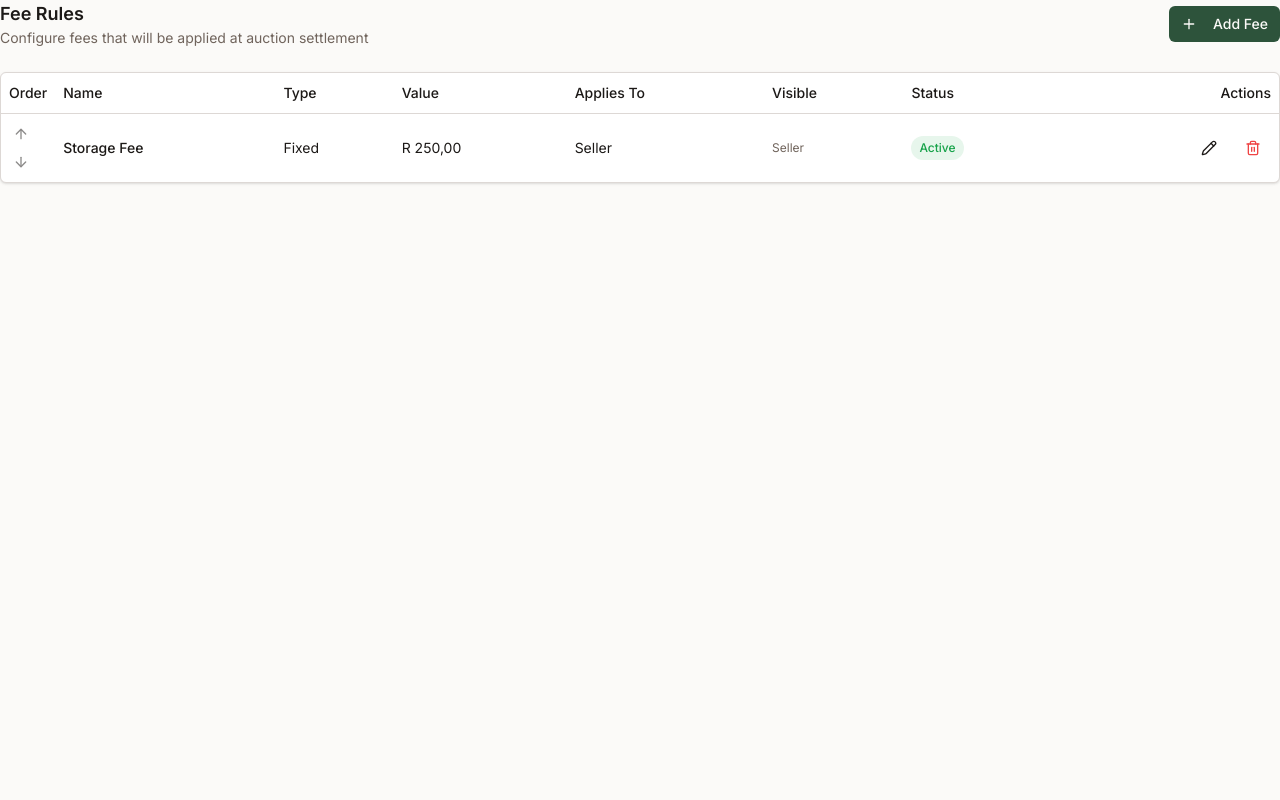
Scenario: FeeManager › edits a fixed fee without a description
Click the button named "edit fee storage fee" at [1209, 148], box [1191,132,1227,164]
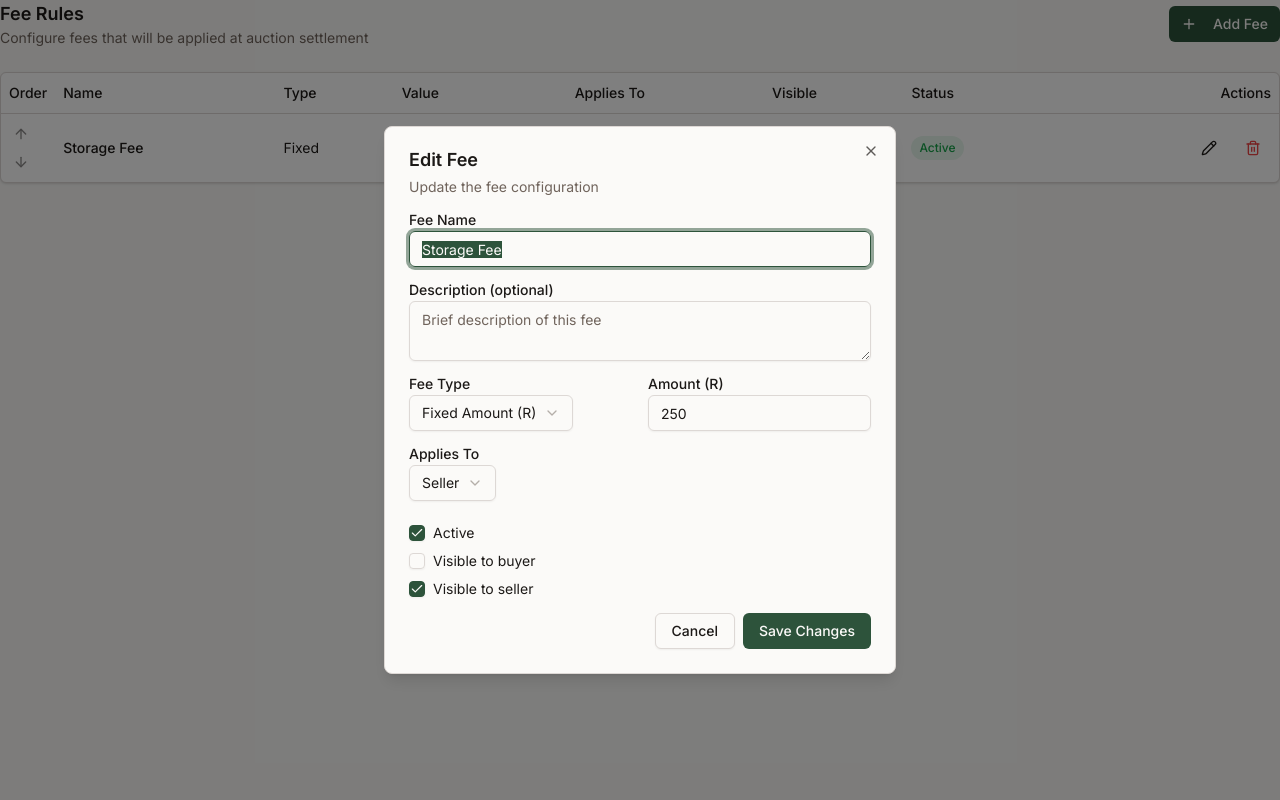
expect the field showing "Storage Fee" is shown: met, box [409,231,871,267]
expect the number field holds "250": met, box [648,395,871,431]
expect the text "Amount (R)" is shown: met, box [648,375,724,392]
